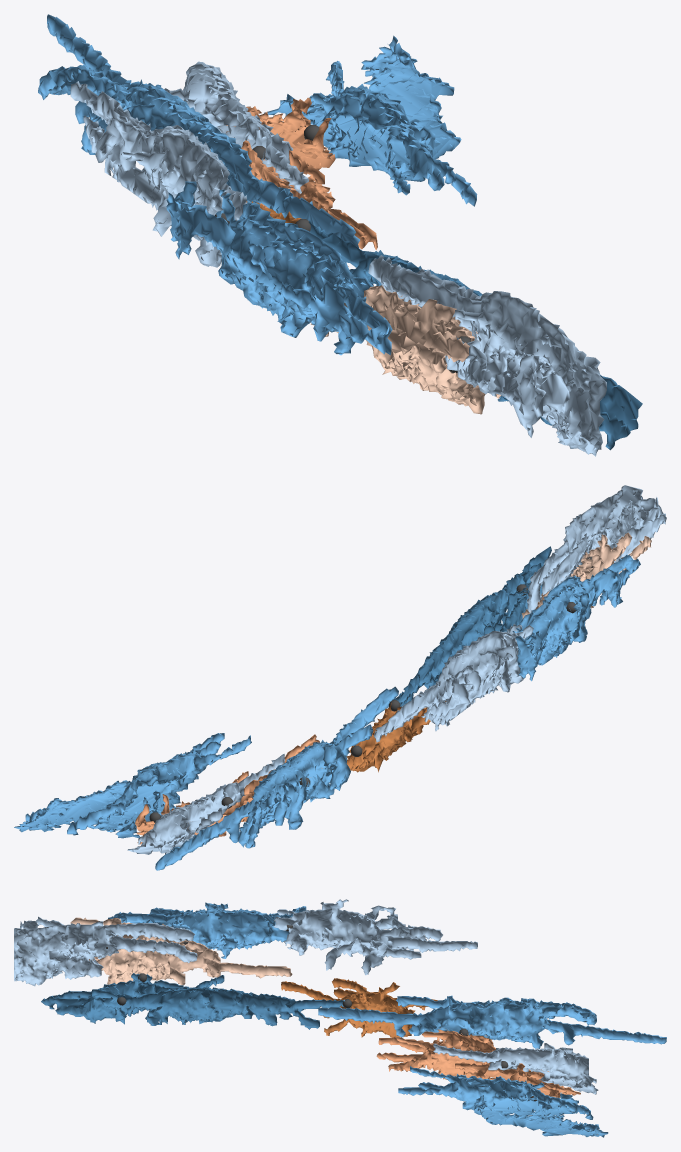
The model's file is sample_2_1_ultrasonic_cleaned_group_1.glb.
3 renders of one model, top to bottom at view 1: azimuth 30°, elevation 25°; view 2: azimuth 150°, elevation 25°; view 3: azimuth 270°, elevation 25°, orthographic. The views are drawn at different scales.
Parts seen in each view (by area): view 1: osteocyte_160_elongated, osteocyte_134_elongated, osteocyte_23_elongated, osteocyte_140_elongated, osteocyte_61_elongated, osteocyte_117_round, osteocyte_26_elongated, osteocyte_18_round, osteocyte_77_elongated, osteocyte_82_elongated; view 2: osteocyte_61_elongated, osteocyte_23_elongated, osteocyte_140_elongated, osteocyte_160_elongated, osteocyte_134_elongated, osteocyte_82_elongated, osteocyte_26_elongated, osteocyte_55_round, osteocyte_117_round, osteocyte_18_round, osteocyte_77_elongated; view 3: osteocyte_61_elongated, osteocyte_160_elongated, osteocyte_140_elongated, osteocyte_23_elongated, osteocyte_82_elongated, osteocyte_134_elongated, osteocyte_18_round, osteocyte_117_round, osteocyte_26_elongated, osteocyte_77_elongated, osteocyte_55_round.
Part boxes in pixels (x1,y1,x2,y2): osteocyte_160_elongated: (368, 255, 606, 456); osteocyte_134_elongated: (166, 181, 392, 355); osteocyte_23_elongated: (264, 35, 477, 206); osteocyte_140_elongated: (70, 81, 246, 267); osteocyte_61_elongated: (38, 14, 359, 248); osteocyte_117_round: (311, 285, 501, 414); osteocyte_26_elongated: (164, 61, 308, 193); osteocyte_18_round: (226, 97, 377, 250); osteocyte_77_elongated: (488, 374, 642, 450); osteocyte_82_elongated: (308, 219, 482, 296); osteocyte_61_elongated: (155, 686, 398, 870); osteocyte_23_elongated: (14, 733, 251, 838); osteocyte_140_elongated: (374, 623, 533, 742); osteocyte_160_elongated: (527, 485, 666, 613); osteocyte_134_elongated: (512, 554, 640, 681); osteocyte_82_elongated: (393, 563, 541, 706); osteocyte_26_elongated: (127, 753, 284, 854); osteocyte_55_round: (346, 701, 446, 772); osteocyte_117_round: (521, 532, 651, 619); osteocyte_18_round: (135, 734, 322, 844); osteocyte_77_elongated: (494, 546, 552, 631); osteocyte_61_elongated: (318, 995, 666, 1048); osteocyte_160_elongated: (14, 916, 197, 986); osteocyte_140_elongated: (273, 899, 477, 975); osteocyte_23_elongated: (398, 1066, 608, 1137); osteocyte_82_elongated: (92, 987, 344, 1029); osteocyte_134_elongated: (108, 902, 306, 958); osteocyte_18_round: (376, 1028, 580, 1097); osteocyte_117_round: (70, 917, 292, 985); osteocyte_26_elongated: (433, 1043, 598, 1094); osteocyte_77_elongated: (41, 973, 224, 1024); osteocyte_55_round: (281, 978, 437, 1037).
Size of the model in its own units: 76.91 by 30.11 by 161.
